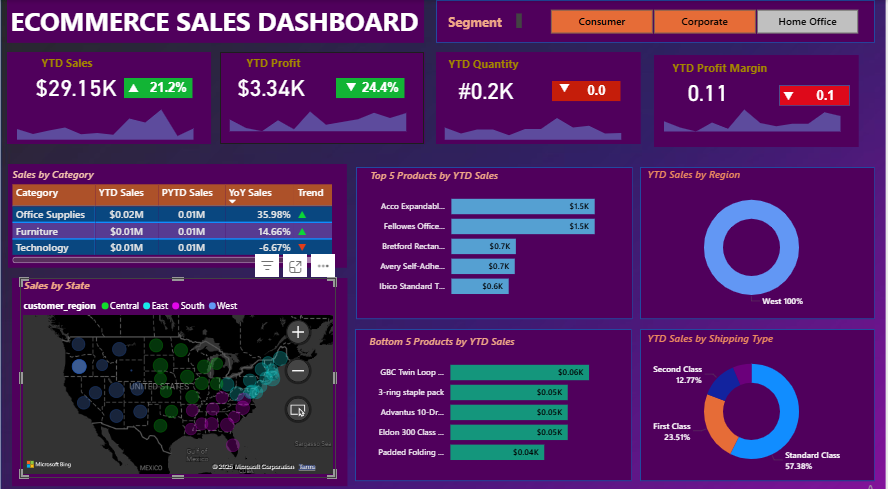

Layout of this report page (visuals, bound fields, positions):
{"tool":"powerbi","page":{"name":"Page 1","canvas":[1280,720],"ordinal":0},"visuals":[{"type":"shape","box":[10.1,0,602.9,54.9],"z":0},{"type":"textbox","box":[10.1,0,602.9,62.2],"z":1000},{"type":"textbox","box":[10.1,75.2,295,133],"z":2000},{"type":"card","fields":{"Values":["ecommerce_data.YTD"]},"box":[0,92.4,220.1,65.5],"z":3000},{"type":"areaChart","fields":{"Category":["calendar.Month"],"Y":["Sum(ecommerce_data.sales_per_order)"]},"box":[10.1,142.8,283.9,63.8],"z":4000},{"type":"shape","box":[179.7,112.5,99.1,28.6],"z":5000},{"type":"card","fields":{"Values":["ecommerce_data.YoY"]},"box":[208.3,112.5,70.6,30.2],"z":6000},{"type":"card","fields":{"Values":["ecommerce_data.Sales Icon"]},"box":[157.9,112.5,70.6,30.2],"z":7000},{"type":"textbox","box":[55.4,75.6,109.2,33.6],"z":8000},{"type":"textbox","box":[317.5,75.6,295.6,132.7],"z":9000},{"type":"card","fields":{"Values":["ecommerce_data.YTD Profit"]},"box":[282.2,92.4,220.1,65.5],"z":10000},{"type":"areaChart","fields":{"Category":["calendar.Month"],"Y":["Sum(ecommerce_data.profit_per_order)"]},"box":[318.1,143.1,283.4,63.6],"z":11000},{"type":"shape","box":[485.5,112.5,99.1,28.6],"z":12000},{"type":"card","fields":{"Values":["ecommerce_data.YoY profit"]},"box":[514,112.5,70.6,30.2],"z":13000},{"type":"card","fields":{"Values":["ecommerce_data.Profit Icon"]},"box":[465.3,109.2,84,33.6],"z":14000},{"type":"textbox","box":[351.1,75.6,109.2,33.6],"z":15000},{"type":"textbox","box":[629.9,75.6,295.6,132.7],"z":16000},{"type":"areaChart","fields":{"Category":["calendar.Month"],"Y":["Sum(ecommerce_data.order_quantity)"]},"box":[628.9,143.1,283.4,65.1],"z":17000},{"type":"shape","box":[797.8,117.5,99.1,28.6],"z":18000},{"type":"card","fields":{"Values":["ecommerce_data.YoY Qty"]},"box":[826.4,117.5,70.6,30.2],"z":19000},{"type":"card","fields":{"Values":["ecommerce_data.Qty Icon"]},"box":[777.8,114.2,76.6,27.5],"z":20000},{"type":"textbox","box":[643.4,77.3,134.4,33.6],"z":21000},{"type":"card","fields":{"Values":["ecommerce_data.YTD Conacatenated Qty"]},"box":[593,97.4,220.1,65.5],"z":22000},{"type":"textbox","box":[945.7,79,295.6,132.7],"z":23000},{"type":"areaChart","fields":{"Category":["calendar.Month"],"Y":["ecommerce_data.Profit Margin"]},"box":[945.7,142.8,283.9,63.8],"z":24000},{"type":"card","fields":{"Values":["ecommerce_data.YTD Profit Margin"]},"box":[949.9,107,146,49.2],"z":25000},{"type":"pivotTable","title":"Sales by Category","fields":{"Rows":["ecommerce_data.category_name"],"Values":["ecommerce_data.YTD Sales","ecommerce_data.PYTD Sales","ecommerce_data.YoY Sales","ecommerce_data.Sales Icon"]},"box":[28.6,248.6,455.2,126],"z":26000},{"type":"textbox","box":[11.8,236.9,490.5,149.5],"z":27000},{"type":"textbox","box":[740.7,312.4,199.9,33.6],"z":28000},{"type":"pivotTable","title":"Sales by Category","fields":{"Rows":["ecommerce_data.category_name"],"Values":["ecommerce_data.YTD Sales","ecommerce_data.PYTD Sales","ecommerce_data.YoY Sales","ecommerce_data.Sales Icon"]},"box":[13.4,241.9,472,144.5],"z":29000},{"type":"textbox","box":[16.8,401.5,485.5,300.7],"z":30000},{"type":"textbox","box":[967.6,82.3,199.9,33.6],"z":31000},{"type":"map","title":"Sales by State","fields":{"Y":["us_state_long_lat_codes.latitude"],"X":["us_state_long_lat_codes.longitude"],"Size":["ecommerce_data.YoY Sales"],"Series":["ecommerce_data.customer_region"]},"box":[28.6,401.5,456.9,288.9],"z":32000},{"type":"shape","box":[514.7,241.4,400.5,220],"z":33000},{"type":"textbox","box":[750.7,322.4,199.9,33.6],"z":34000},{"type":"textbox","box":[749.1,556.5,199.9,33.6],"z":35000},{"type":"shape","box":[513.1,475.5,400.5,220],"z":36000},{"type":"textbox","box":[759.1,566.5,199.9,33.6],"z":37000},{"type":"barChart","title":"Top 5 Products by YTD Sales","fields":{"Category":["ecommerce_data.product_name"],"Y":["ecommerce_data.YTD Sales"]},"box":[530.6,242.9,365.8,199.5],"z":38000},{"type":"barChart","title":"Bottom 5 Products by YTD Sales","fields":{"Category":["ecommerce_data.product_name"],"Y":["ecommerce_data.YTD Sales"]},"box":[529.2,482.9,365.8,199.5],"z":39000},{"type":"shape","box":[925.6,241.9,339.3,220.1],"z":40000},{"type":"shape","box":[925.6,475.4,339.3,220.1],"z":41000},{"type":"donutChart","title":"YTD Sales by Region","fields":{"Category":["ecommerce_data.customer_region"],"Y":["ecommerce_data.YTD Sales"]},"box":[931.1,241.4,310.8,212.5],"z":42000},{"type":"donutChart","title":"YTD Sales by Shipping Type","fields":{"Y":["ecommerce_data.YTD Sales"],"Category":["ecommerce_data.shipping_type"]},"box":[931.1,478.6,310.8,212.5],"z":43000},{"type":"shape","box":[630.4,0,634.7,62.2],"z":44000},{"type":"slicer","fields":{"Values":["ecommerce_data.customer_segment"]},"box":[770.6,7.2,494.5,47.7],"z":45000},{"type":"textbox","box":[643.4,14.5,115.7,33.3],"z":46000},{"type":"shape","box":[1126.3,122.9,102.7,30.4],"z":47000},{"type":"card","fields":{"Values":["ecommerce_data.Qty Icon"]},"box":[1101.7,125.8,76.6,27.5],"z":48000},{"type":"card","fields":{"Values":["ecommerce_data.YTD Profit Margin"]},"box":[1158.1,124.3,70.8,30.4],"z":48001}]}

Visuals, with their boxes in screenshot pixels (x1, y1, x2, y2), scaled from the page's 1280x720 canvas onto the 888x489 screenshot:
shape: <box>7,0,425,37</box>
textbox: <box>7,0,425,42</box>
textbox: <box>7,51,212,141</box>
card - ecommerce_data.YTD: <box>0,63,153,107</box>
areaChart - calendar.Month x Sum(ecommerce_data.sales_per_order): <box>7,97,204,140</box>
shape: <box>125,76,193,96</box>
card - ecommerce_data.YoY: <box>145,76,193,97</box>
card - ecommerce_data.Sales Icon: <box>110,76,159,97</box>
textbox: <box>38,51,114,74</box>
textbox: <box>220,51,425,141</box>
card - ecommerce_data.YTD Profit: <box>196,63,348,107</box>
areaChart - calendar.Month x Sum(ecommerce_data.profit_per_order): <box>221,97,417,140</box>
shape: <box>337,76,406,96</box>
card - ecommerce_data.YoY profit: <box>357,76,406,97</box>
card - ecommerce_data.Profit Icon: <box>323,74,381,97</box>
textbox: <box>244,51,319,74</box>
textbox: <box>437,51,642,141</box>
areaChart - calendar.Month x Sum(ecommerce_data.order_quantity): <box>436,97,633,141</box>
shape: <box>553,80,622,99</box>
card - ecommerce_data.YoY Qty: <box>573,80,622,100</box>
card - ecommerce_data.Qty Icon: <box>540,78,593,96</box>
textbox: <box>446,52,540,75</box>
card - ecommerce_data.YTD Conacatenated Qty: <box>411,66,564,111</box>
textbox: <box>656,54,861,144</box>
areaChart - calendar.Month x ecommerce_data.Profit Margin: <box>656,97,853,140</box>
card - ecommerce_data.YTD Profit Margin: <box>659,73,760,106</box>
"Sales by Category" pivotTable: <box>20,169,336,254</box>
textbox: <box>8,161,348,262</box>
textbox: <box>514,212,653,235</box>
"Sales by Category" pivotTable: <box>9,164,337,262</box>
textbox: <box>12,273,348,477</box>
textbox: <box>671,56,810,79</box>
"Sales by State" map: <box>20,273,337,469</box>
shape: <box>357,164,635,313</box>
textbox: <box>521,219,659,242</box>
textbox: <box>520,378,658,401</box>
shape: <box>356,323,634,472</box>
textbox: <box>527,385,665,408</box>
"Top 5 Products by YTD Sales" barChart: <box>368,165,622,300</box>
"Bottom 5 Products by YTD Sales" barChart: <box>367,328,621,463</box>
shape: <box>642,164,878,314</box>
shape: <box>642,323,878,472</box>
"YTD Sales by Region" donutChart: <box>646,164,862,308</box>
"YTD Sales by Shipping Type" donutChart: <box>646,325,862,469</box>
shape: <box>437,0,878,42</box>
slicer - ecommerce_data.customer_segment: <box>535,5,878,37</box>
textbox: <box>446,10,527,32</box>
shape: <box>781,83,853,104</box>
card - ecommerce_data.Qty Icon: <box>764,85,817,104</box>
card - ecommerce_data.YTD Profit Margin: <box>803,84,853,105</box>
